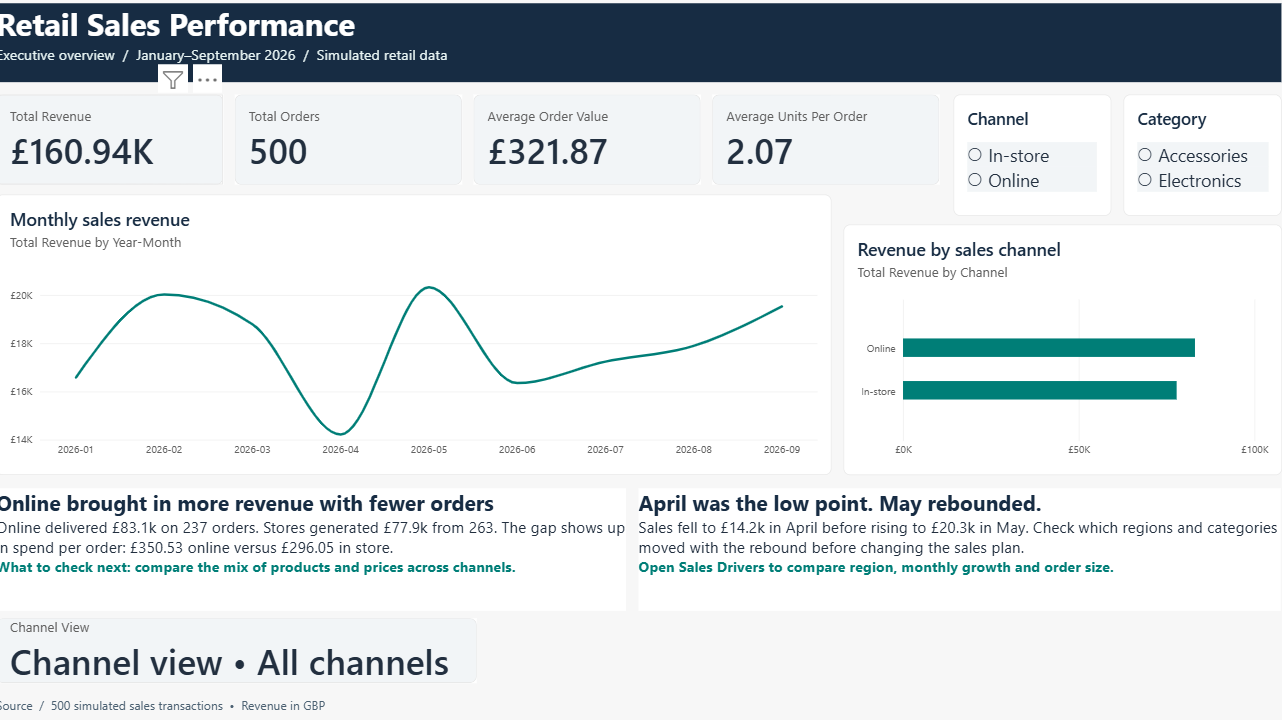

The dashboard page shown, as its layout file describes it:
{"tool":"powerbi","page":{"name":"Executive Overview","canvas":[1600,900],"ordinal":0},"visuals":[{"type":"textbox","box":[24,20,1552,95],"z":0},{"type":"cardVisual","fields":{"Data":["Sales Data.Total Revenue"]},"box":[24,129,274,109],"z":1000},{"type":"cardVisual","fields":{"Data":["Sales Data.Total Orders"]},"box":[312,129,274,109],"z":2000},{"type":"cardVisual","fields":{"Data":["Sales Data.Average Order Value"]},"box":[600,129,274,109],"z":3000},{"type":"cardVisual","fields":{"Data":["Date Table.Average Units Per Order"]},"box":[888,129,274,109],"z":4000},{"type":"listSlicer","fields":{"Values":["Sales Data.Channel"]},"box":[1180,129,190,146],"z":5000},{"type":"listSlicer","fields":{"Values":["Sales Data.Category"]},"box":[1384,129,192,146],"z":6000},{"type":"lineChart","title":"Monthly sales revenue","fields":{"Category":["Date Table.Year-Month"],"Y":["Sales Data.Total Revenue"]},"box":[24,251,1008,338],"z":7000},{"type":"clusteredBarChart","title":"Revenue by sales channel","fields":{"Category":["Sales Data.Channel"],"Y":["Sales Data.Total Revenue"]},"box":[1046,287,530,302],"z":8000},{"type":"textbox","box":[24,605,760,148],"z":9000},{"type":"textbox","box":[800,605,776,148],"z":10000},{"type":"cardVisual","fields":{"Data":["Sales Data.Channel View"]},"box":[24,762,580,78],"z":11000},{"type":"textbox","box":[24,856,1552,30],"z":13000}]}

Visuals, with their boxes in screenshot pixels (x1, y1, x2, y2), scaled from the page's 1600x900 canvas onto the 1282x720 screenshot:
textbox: {"x1": 19, "y1": 16, "x2": 1263, "y2": 92}
cardVisual - Sales Data.Total Revenue: {"x1": 19, "y1": 103, "x2": 239, "y2": 190}
cardVisual - Sales Data.Total Orders: {"x1": 250, "y1": 103, "x2": 470, "y2": 190}
cardVisual - Sales Data.Average Order Value: {"x1": 481, "y1": 103, "x2": 700, "y2": 190}
cardVisual - Date Table.Average Units Per Order: {"x1": 712, "y1": 103, "x2": 931, "y2": 190}
listSlicer - Sales Data.Channel: {"x1": 945, "y1": 103, "x2": 1098, "y2": 220}
listSlicer - Sales Data.Category: {"x1": 1109, "y1": 103, "x2": 1263, "y2": 220}
"Monthly sales revenue" lineChart: {"x1": 19, "y1": 201, "x2": 827, "y2": 471}
"Revenue by sales channel" clusteredBarChart: {"x1": 838, "y1": 230, "x2": 1263, "y2": 471}
textbox: {"x1": 19, "y1": 484, "x2": 628, "y2": 602}
textbox: {"x1": 641, "y1": 484, "x2": 1263, "y2": 602}
cardVisual - Sales Data.Channel View: {"x1": 19, "y1": 610, "x2": 484, "y2": 672}
textbox: {"x1": 19, "y1": 685, "x2": 1263, "y2": 709}
